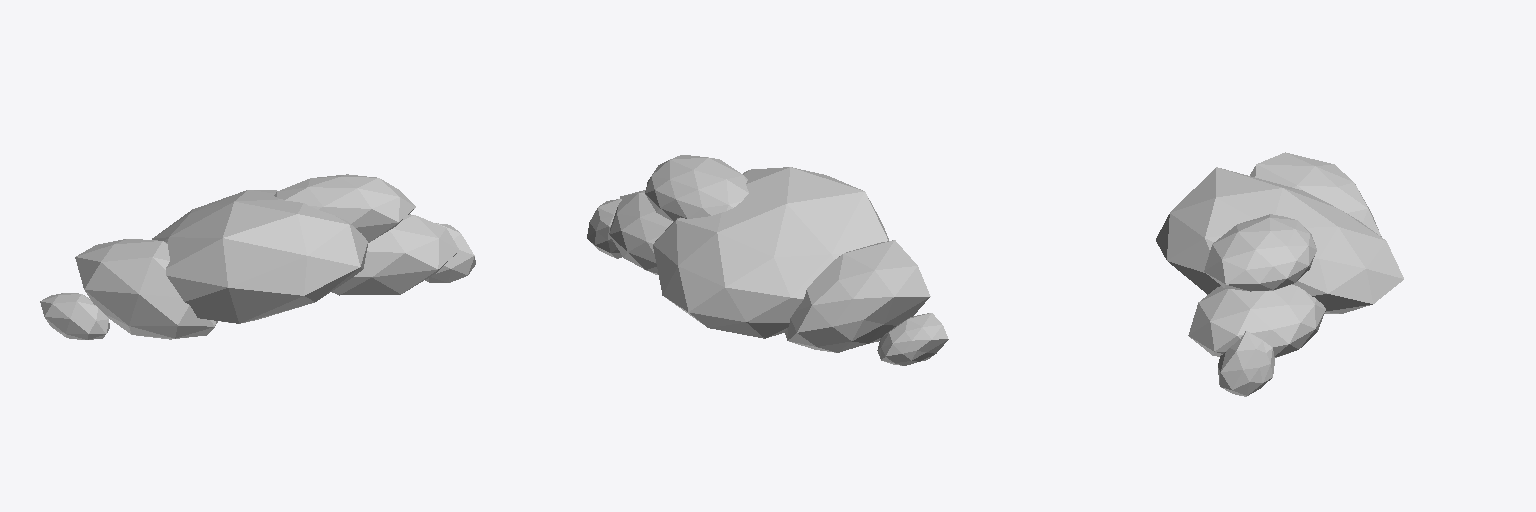
File: cloud 1.obj
The picture shows the model from 3 angles: view 1: azimuth 30°, elevation 25°; view 2: azimuth 150°, elevation 25°; view 3: azimuth 270°, elevation 25°; orthographic projection.
Visible parts, largest first — view 1: Icosphere.022_Icosphere.056, Icosphere.023_Icosphere.057, Icosphere.020_Icosphere.054, Icosphere.021_Icosphere.055, Icosphere.024_Icosphere.058, Icosphere.025_Icosphere.059; view 2: Icosphere.022_Icosphere.056, Icosphere.023_Icosphere.057, Icosphere.021_Icosphere.055, Icosphere.020_Icosphere.054, Icosphere.024_Icosphere.058, Icosphere.025_Icosphere.059; view 3: Icosphere.022_Icosphere.056, Icosphere.020_Icosphere.054, Icosphere.021_Icosphere.055, Icosphere.023_Icosphere.057, Icosphere.025_Icosphere.059.
Boxes of the visible parts, box(x1,y1,x2,y2) form: Icosphere.022_Icosphere.056: box(152, 190, 367, 323); Icosphere.023_Icosphere.057: box(75, 239, 217, 339); Icosphere.020_Icosphere.054: box(332, 214, 459, 295); Icosphere.021_Icosphere.055: box(274, 174, 415, 242); Icosphere.024_Icosphere.058: box(40, 293, 109, 339); Icosphere.025_Icosphere.059: box(425, 223, 475, 282); Icosphere.022_Icosphere.056: box(653, 167, 888, 338); Icosphere.023_Icosphere.057: box(785, 240, 930, 352); Icosphere.021_Icosphere.055: box(645, 155, 748, 221); Icosphere.020_Icosphere.054: box(609, 190, 672, 274); Icosphere.024_Icosphere.058: box(877, 313, 948, 365); Icosphere.025_Icosphere.059: box(587, 199, 622, 258); Icosphere.022_Icosphere.056: box(1156, 167, 1403, 313); Icosphere.020_Icosphere.054: box(1188, 284, 1325, 357); Icosphere.021_Icosphere.055: box(1204, 214, 1316, 291); Icosphere.023_Icosphere.057: box(1250, 152, 1381, 236); Icosphere.025_Icosphere.059: box(1218, 331, 1274, 396).
Size of the model in its own units: 129 by 39.82 by 70.84.